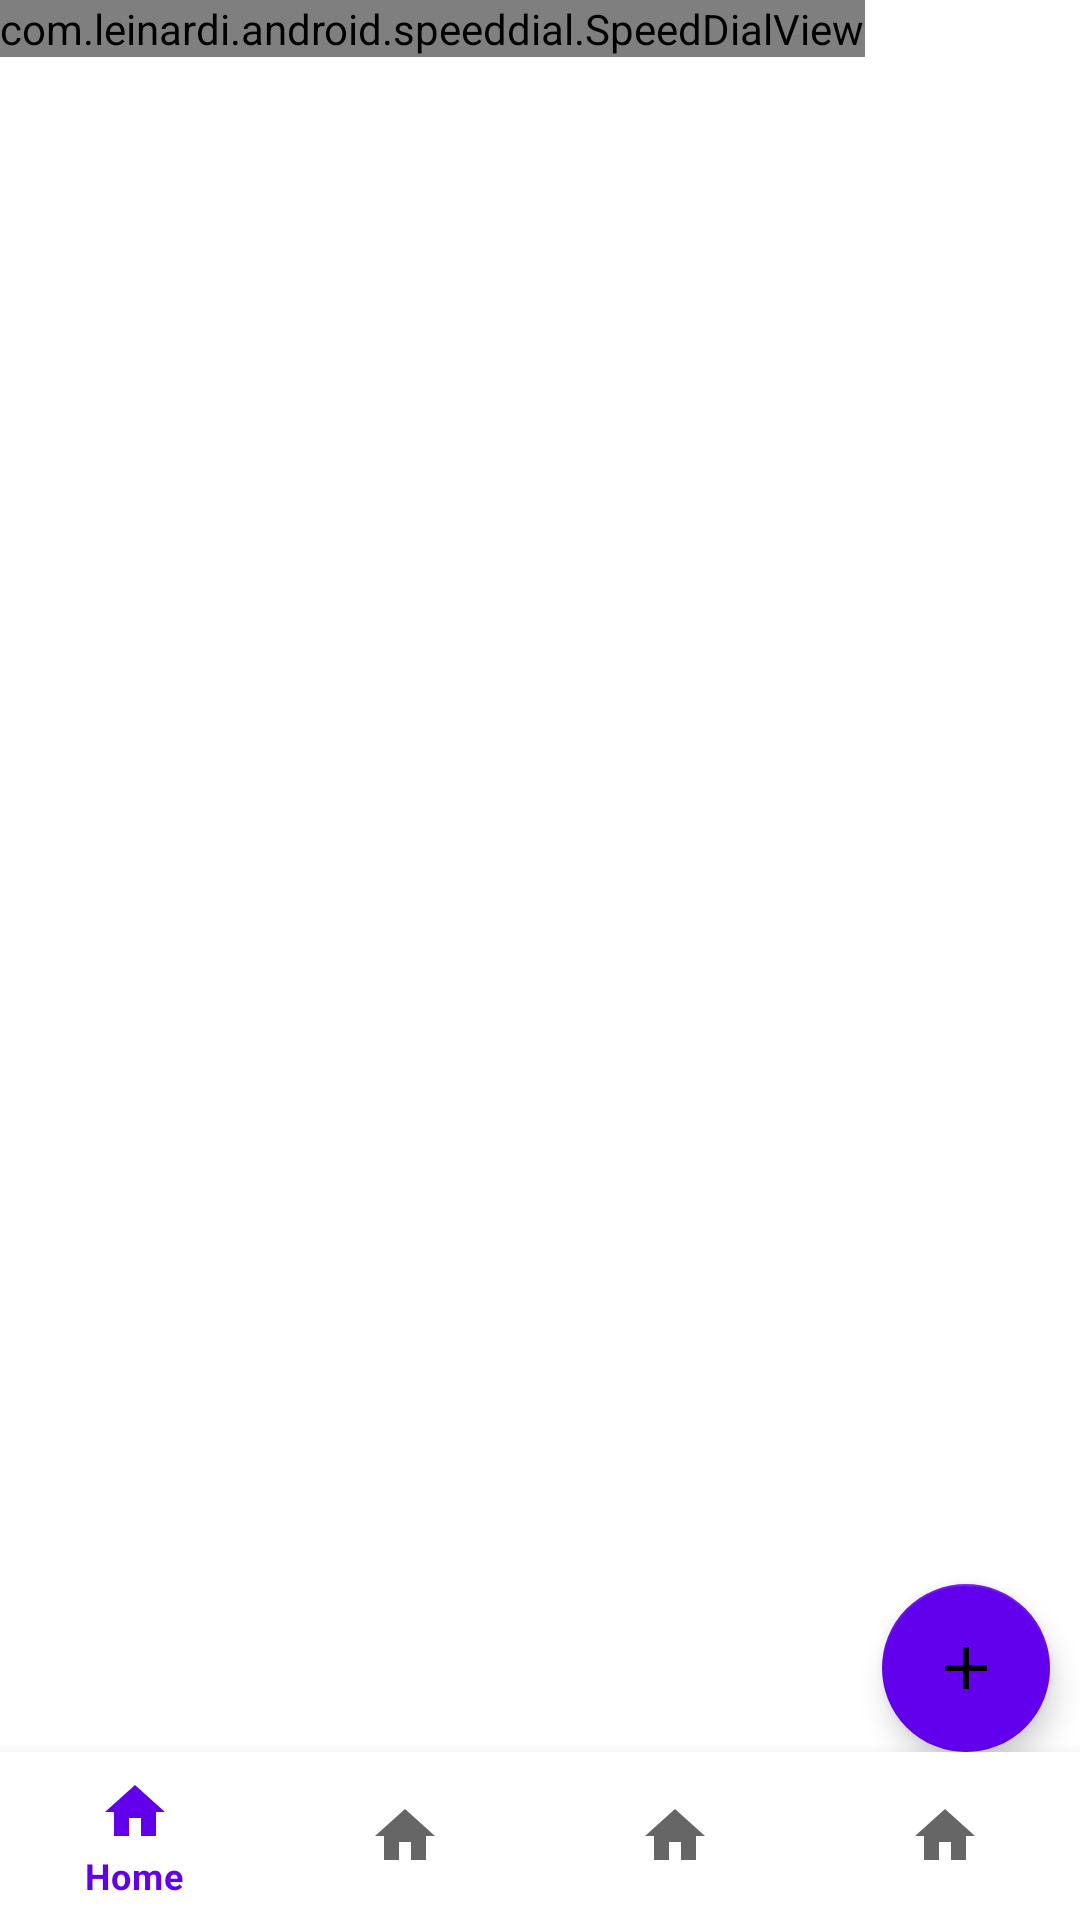

Where to tap for icons on this 1080 x 1920 app screen, as (x=x, y=y):
plus: (x=966, y=1668)
